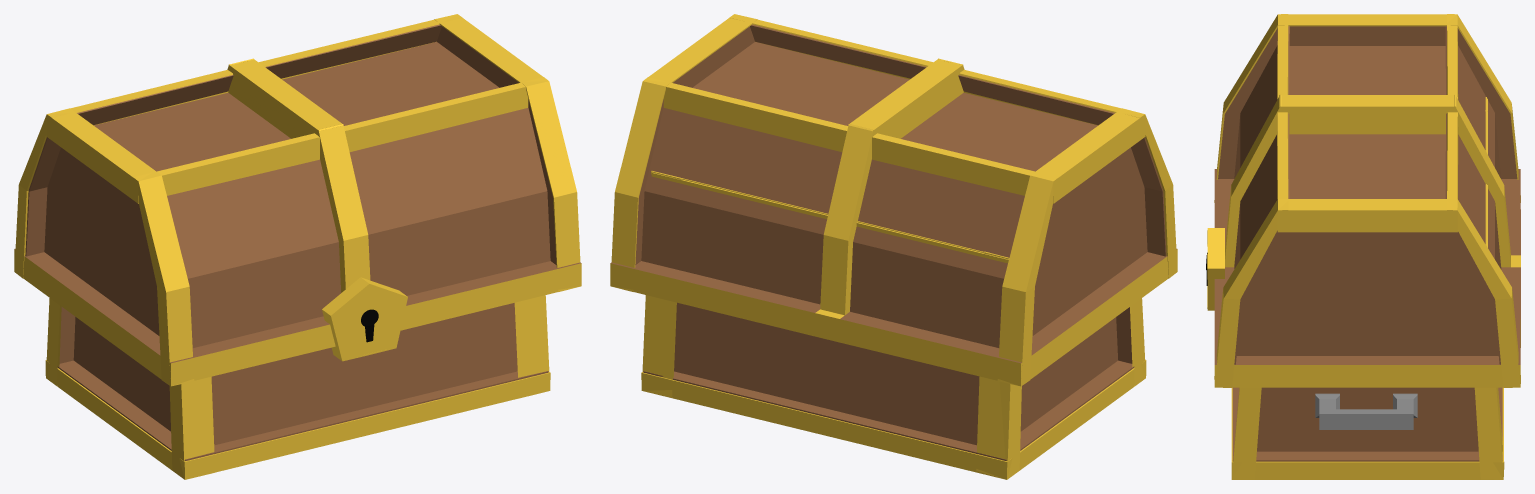
File: chest.fbx
3 views of the same model, side by side, from view 1: azimuth 30°, elevation 25°; view 2: azimuth 150°, elevation 25°; view 3: azimuth 270°, elevation 25° (orthographic). The views are drawn at different scales.
Visible parts, largest first — view 1: Cube; view 2: Cube; view 3: Cube.
Boxes of the visible parts, x1,y1,x2,y2 form: Cube: (14,14,581,479); Cube: (610,14,1177,479); Cube: (1206,14,1520,479).
Size of the model in its own units: 205 by 140 by 139.
